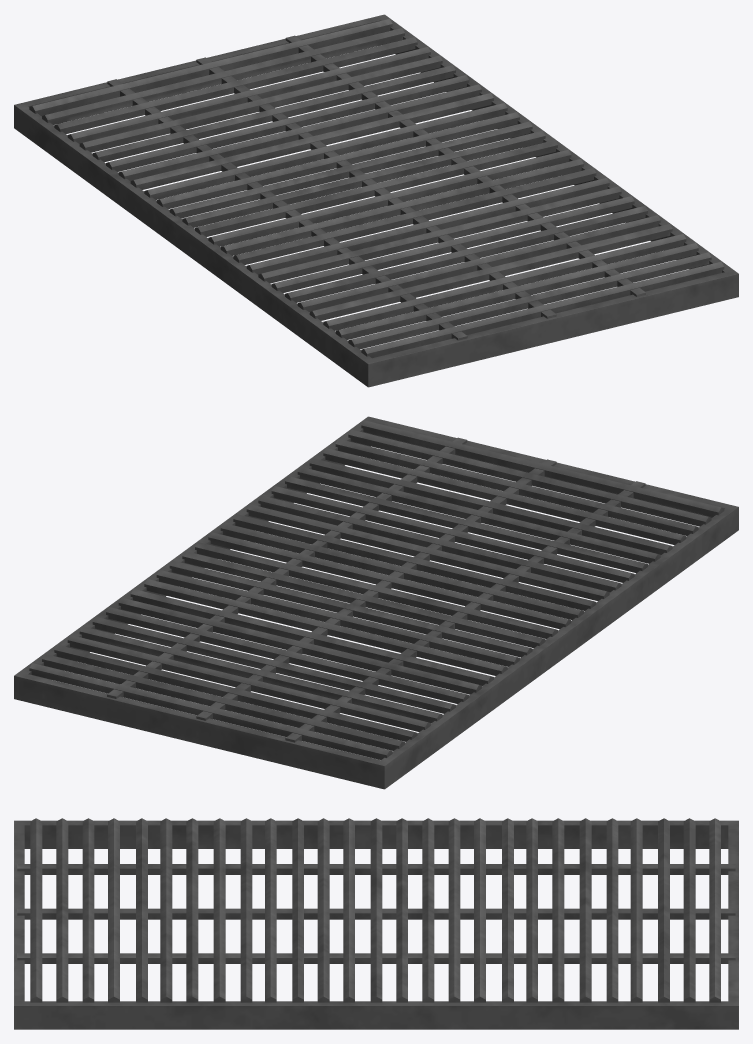
3 renders of one model, top to bottom at view 1: azimuth 30°, elevation 25°; view 2: azimuth 150°, elevation 25°; view 3: azimuth 270°, elevation 25°, orthographic. The views are drawn at different scales.
Visible parts, largest first — view 1: MetalGrate_lambert6_0; view 2: MetalGrate_lambert6_0; view 3: MetalGrate_lambert6_0.
Boxes of the visible parts, box(x1,y1,x2,y2) form: MetalGrate_lambert6_0: box(14, 14, 738, 387); MetalGrate_lambert6_0: box(14, 416, 738, 789); MetalGrate_lambert6_0: box(14, 818, 738, 1029).
Bounding box in the file's own units: 133 × 9.99 × 220.
Materials: 1 (1 with a texture image).
